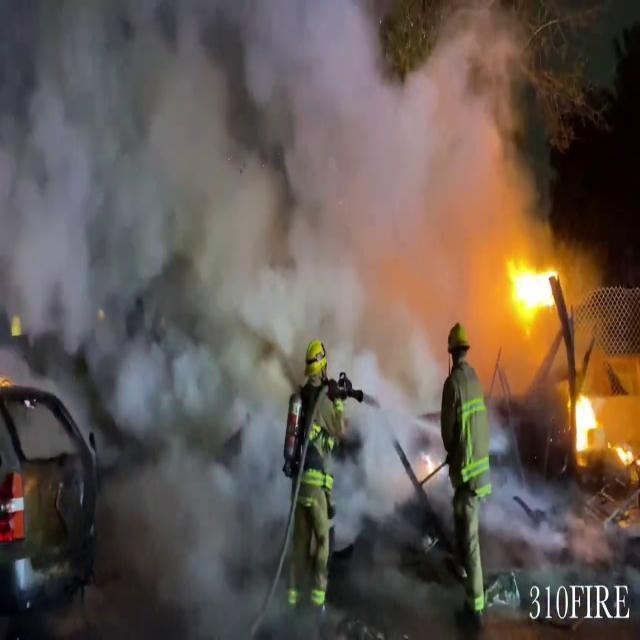Fire: (568, 384, 638, 468), (506, 252, 560, 330), (569, 386, 603, 458)
Smoke: (0, 0, 556, 470)
